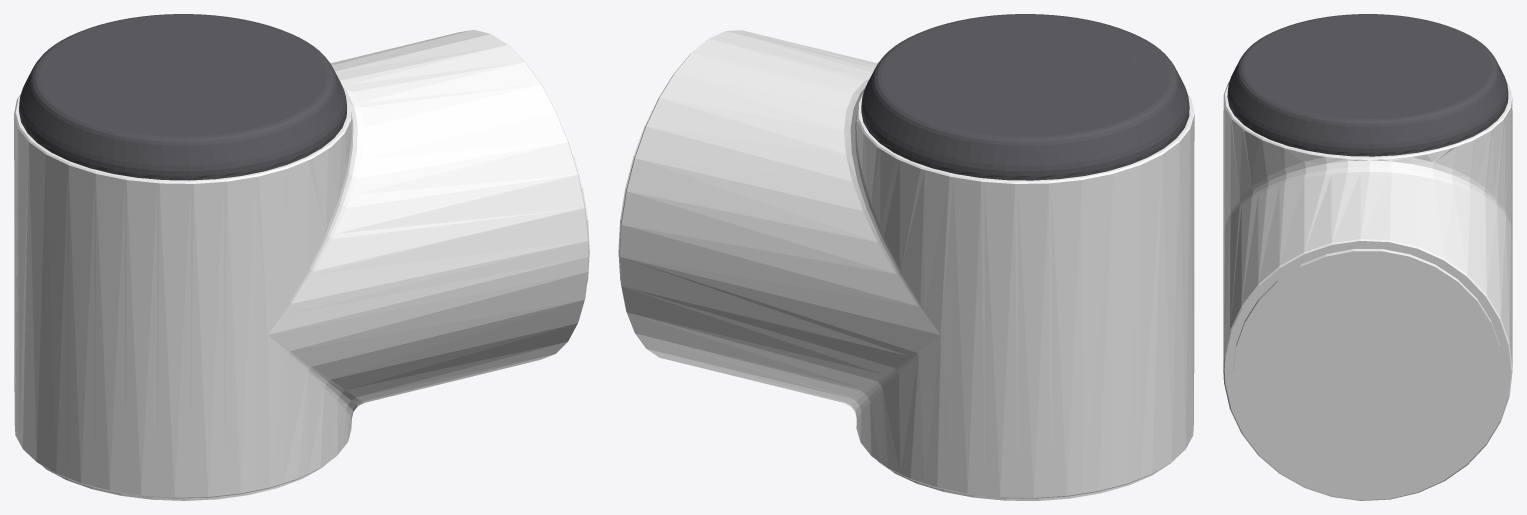
The model's file is wrist_flex_link.obj.
3 views of the same model, side by side, from view 1: azimuth 30°, elevation 25°; view 2: azimuth 150°, elevation 25°; view 3: azimuth 270°, elevation 25° (orthographic). The views are drawn at different scales.
Parts seen in each view (by area): view 1: obj1; view 2: obj1; view 3: obj1.
Boxes of the visible parts, box(x1,y1,x2,y2) form: obj1: box(14, 14, 589, 500); obj1: box(618, 14, 1194, 500); obj1: box(1223, 14, 1512, 500).
Bounding box in the file's own units: 0.1685 × 0.121 × 0.104.
